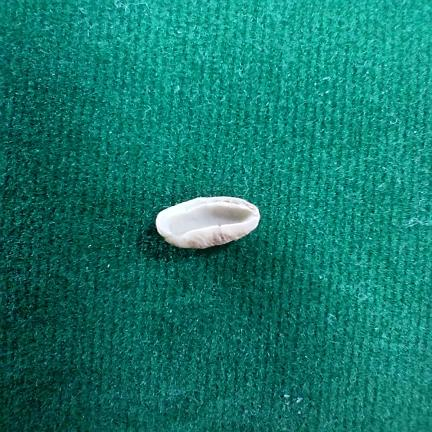shell: (156, 196, 260, 249)
